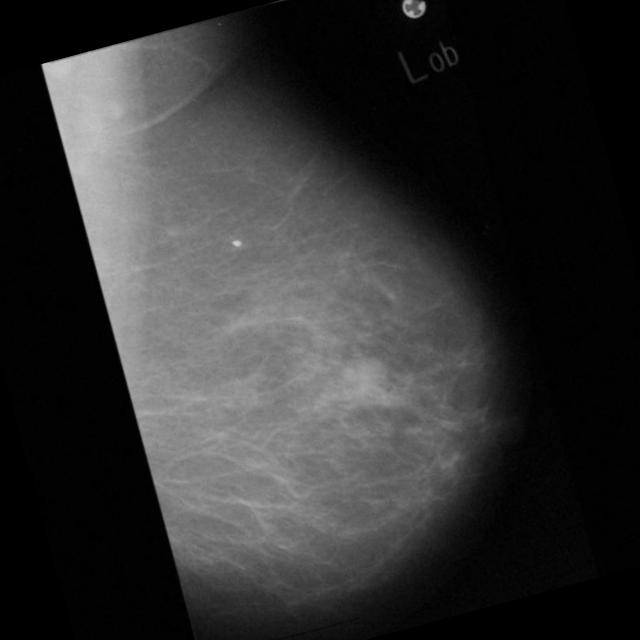CIRC: (334, 342, 401, 410)
